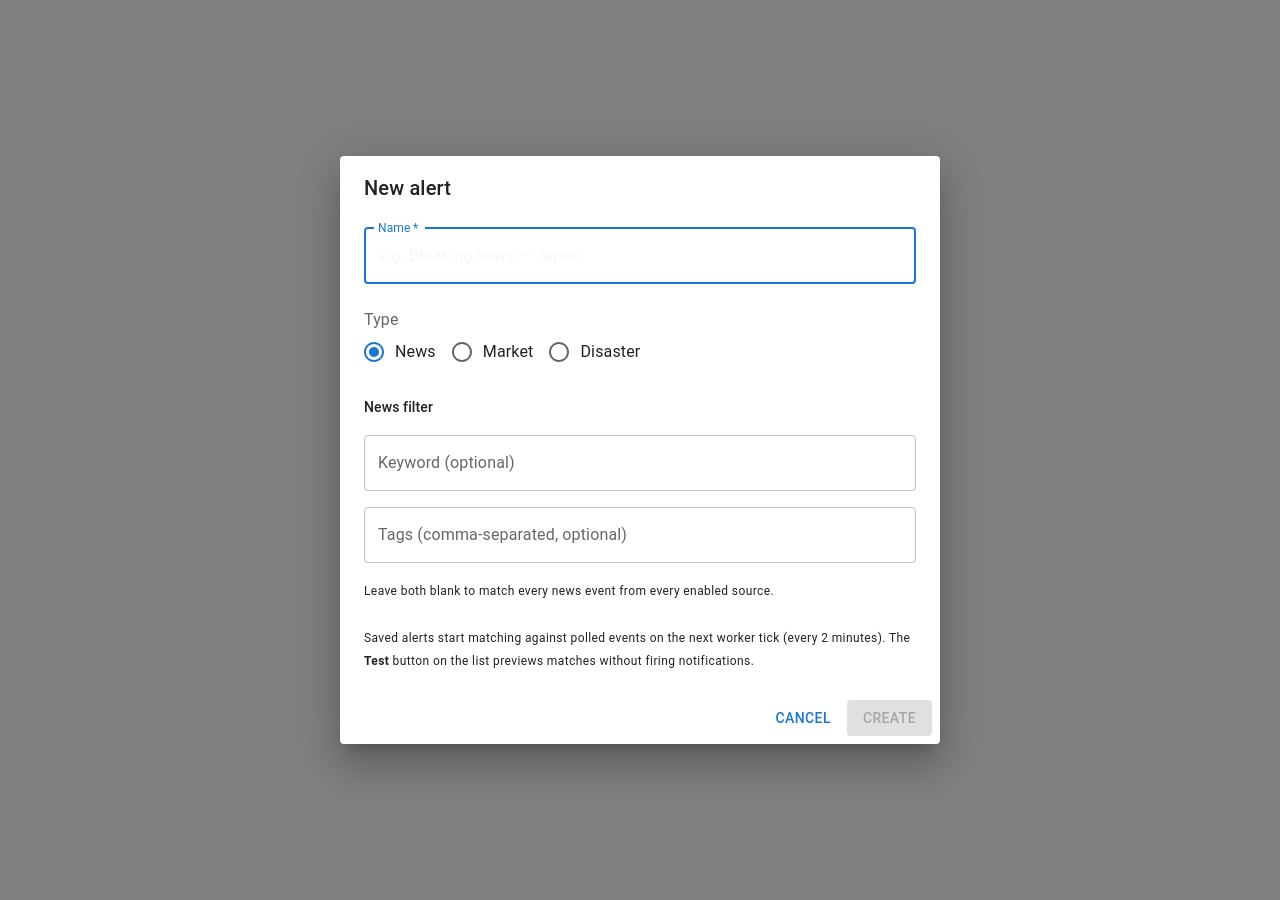
Test: AlertEditorDialog › shows disaster-specific filter fields when Disaster is selected
Click the radio button labelled "Disaster".
click(594, 352)  # box [548, 340, 640, 364]
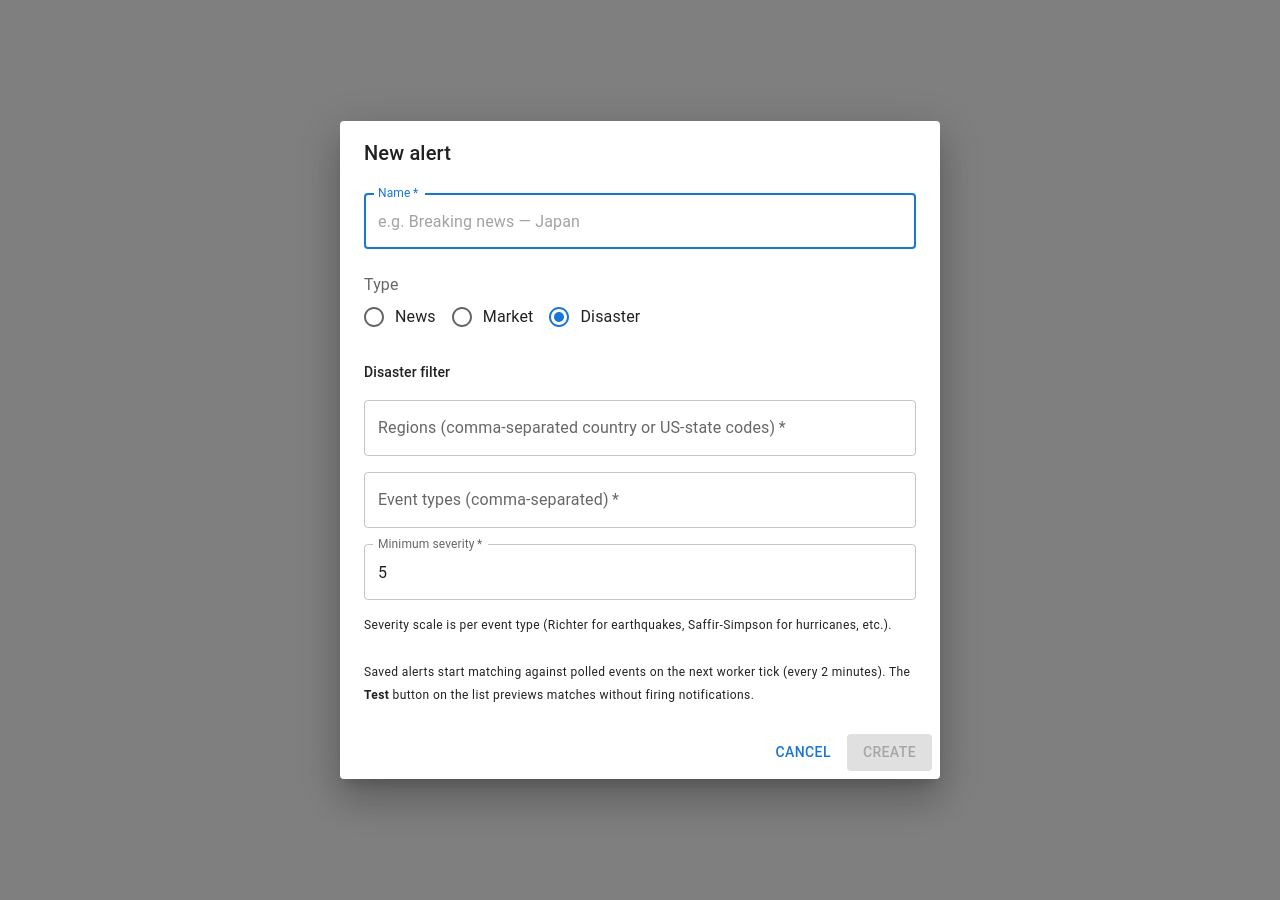
Check: the field labelled "Regions (comma-separated country or US-state codes) *" is shown, box [364, 400, 916, 456]
